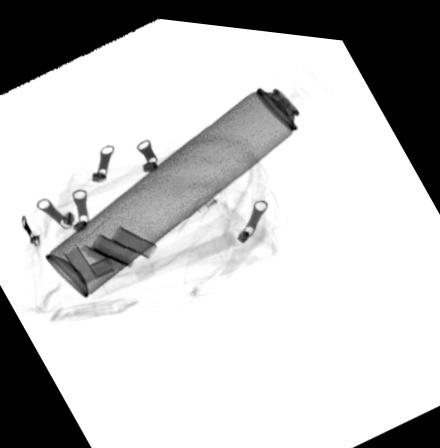Sprayer: (41, 50, 334, 297)
